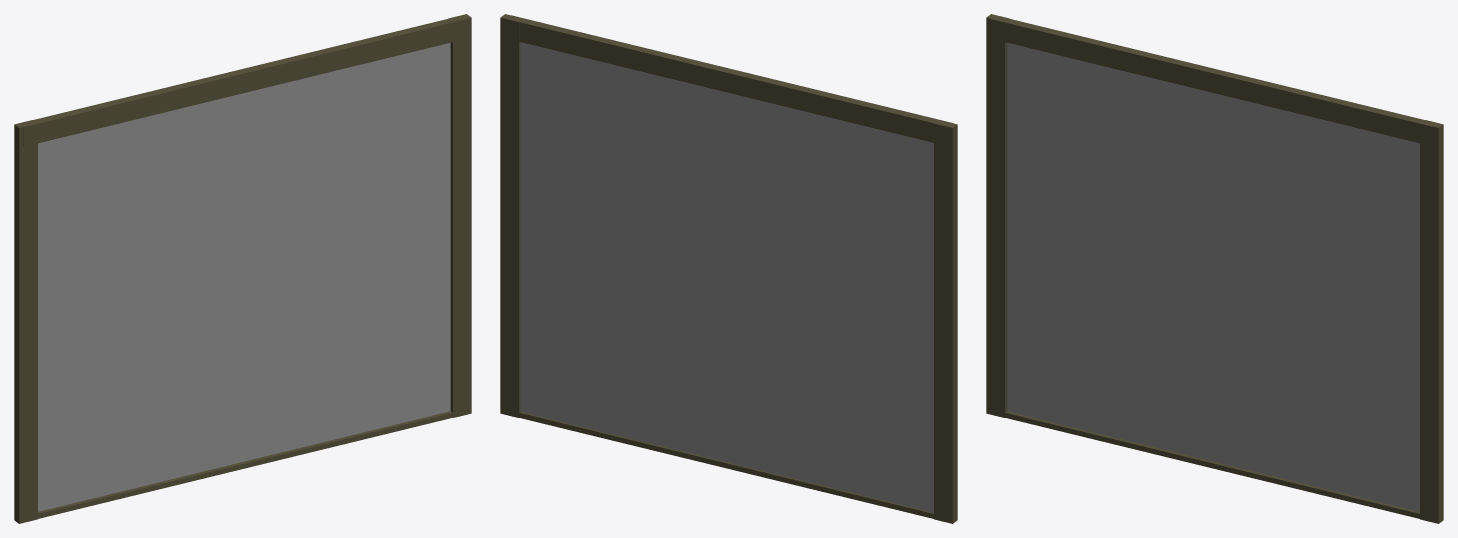
Rendered from wall plain.fbx.
3 views of the same model, side by side, from view 1: azimuth 30°, elevation 25°; view 2: azimuth 150°, elevation 25°; view 3: azimuth 330°, elevation 25° (orthographic).
Parts seen in each view (by area): view 1: wall side, merge beam010, merge beam009, merge beam008, merge beam011; view 2: wall side, merge beam010, merge beam009, merge beam008, merge beam011; view 3: wall side, merge beam010, merge beam008, merge beam009, merge beam011.
Boxes of the visible parts, bbox=[...] form: wall side: bbox=[38, 43, 450, 511]; merge beam010: bbox=[23, 19, 465, 146]; merge beam009: bbox=[14, 120, 37, 523]; merge beam008: bbox=[448, 14, 471, 417]; merge beam011: bbox=[23, 411, 465, 522]; wall side: bbox=[520, 42, 933, 512]; merge beam010: bbox=[511, 15, 951, 142]; merge beam009: bbox=[934, 120, 957, 523]; merge beam008: bbox=[500, 14, 523, 417]; merge beam011: bbox=[506, 410, 948, 522]; wall side: bbox=[1007, 43, 1419, 511]; merge beam010: bbox=[990, 19, 1432, 146]; merge beam008: bbox=[1420, 120, 1443, 523]; merge beam009: bbox=[986, 14, 1009, 417]; merge beam011: bbox=[991, 409, 1419, 518].
Size of the model in its own units: 366 by 306 by 7.32.
